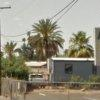Palm tree: (18, 11, 89, 58)
